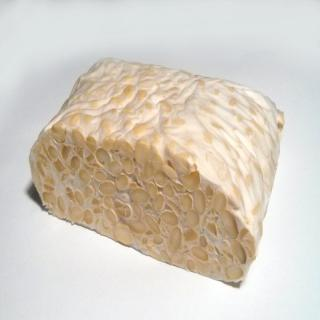Tempe: (30, 56, 286, 285)
